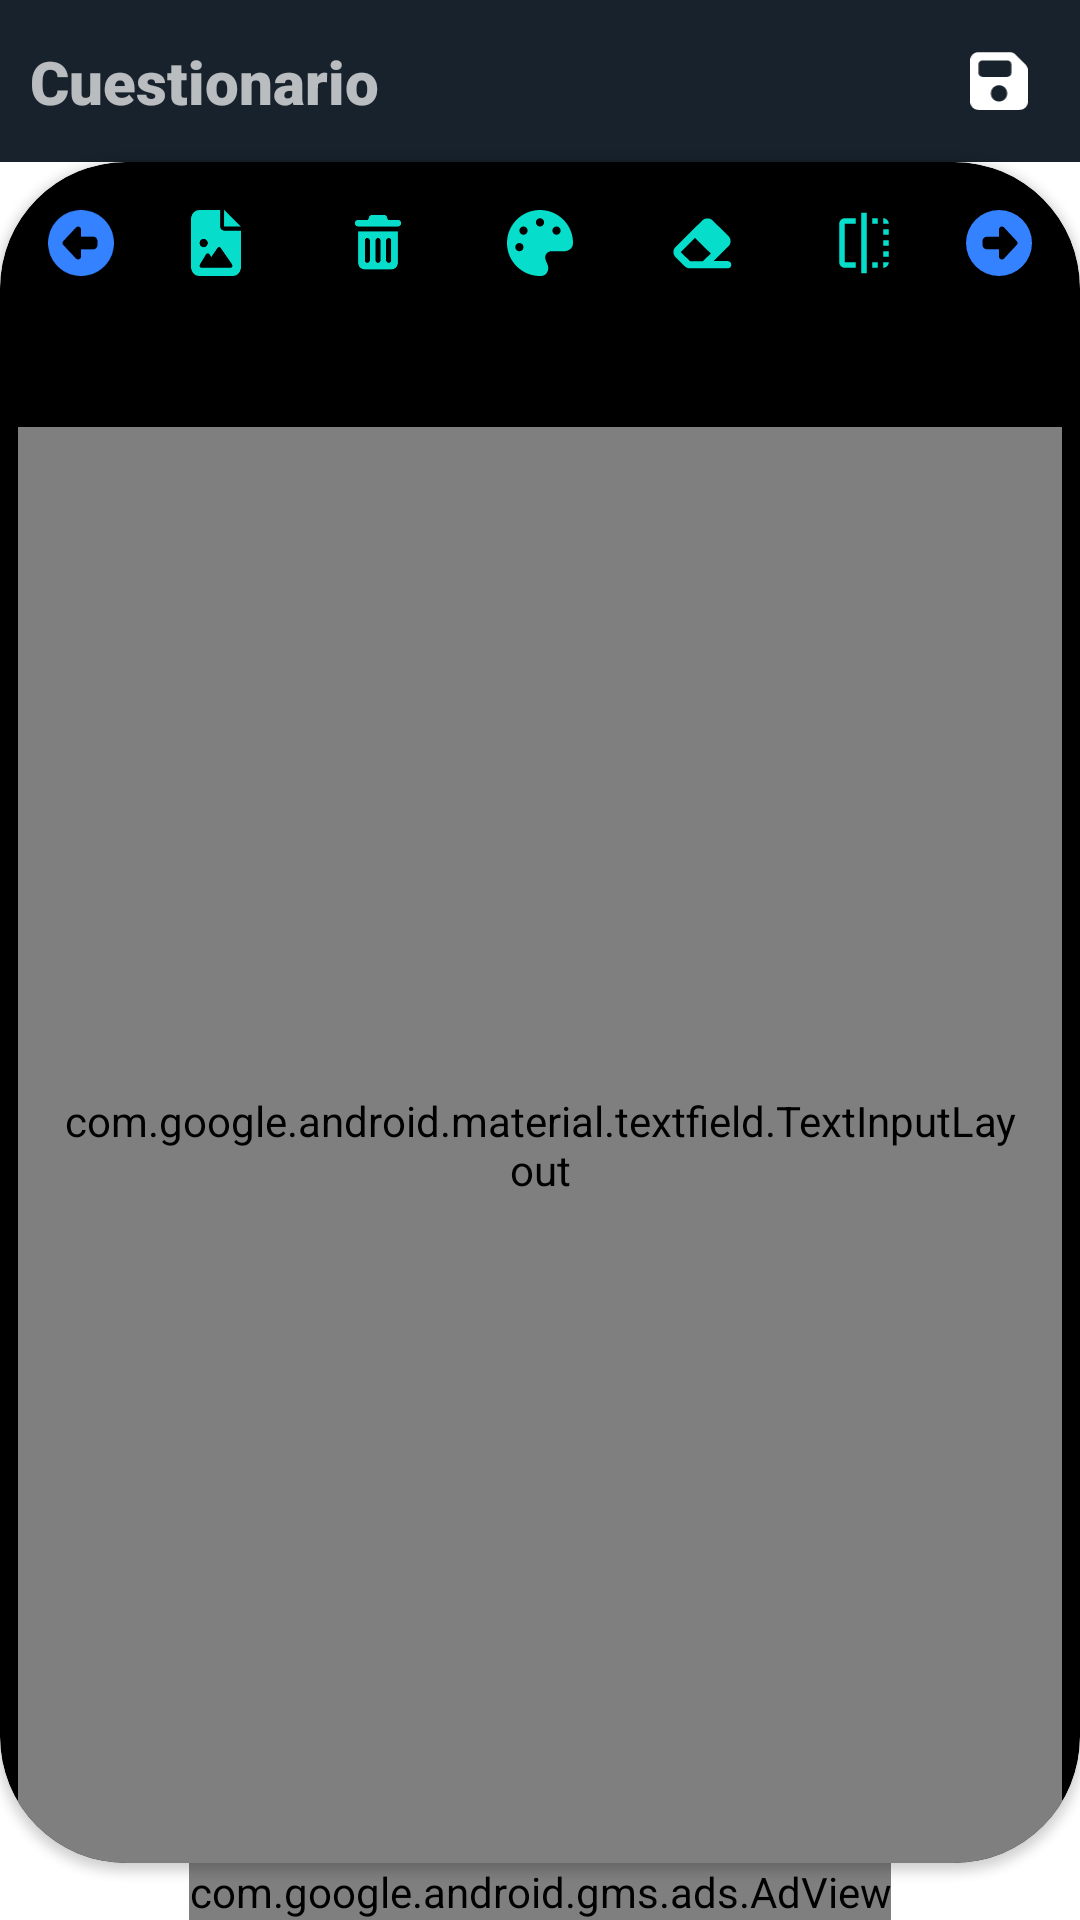

Screen size 1080×1920. Icon name, then its center in pixels as (x=x, y=y):
eraser: (x=702, y=243)
file: (x=216, y=243)
palette: (x=540, y=243)
save: (x=999, y=81)
trash: (x=378, y=242)
